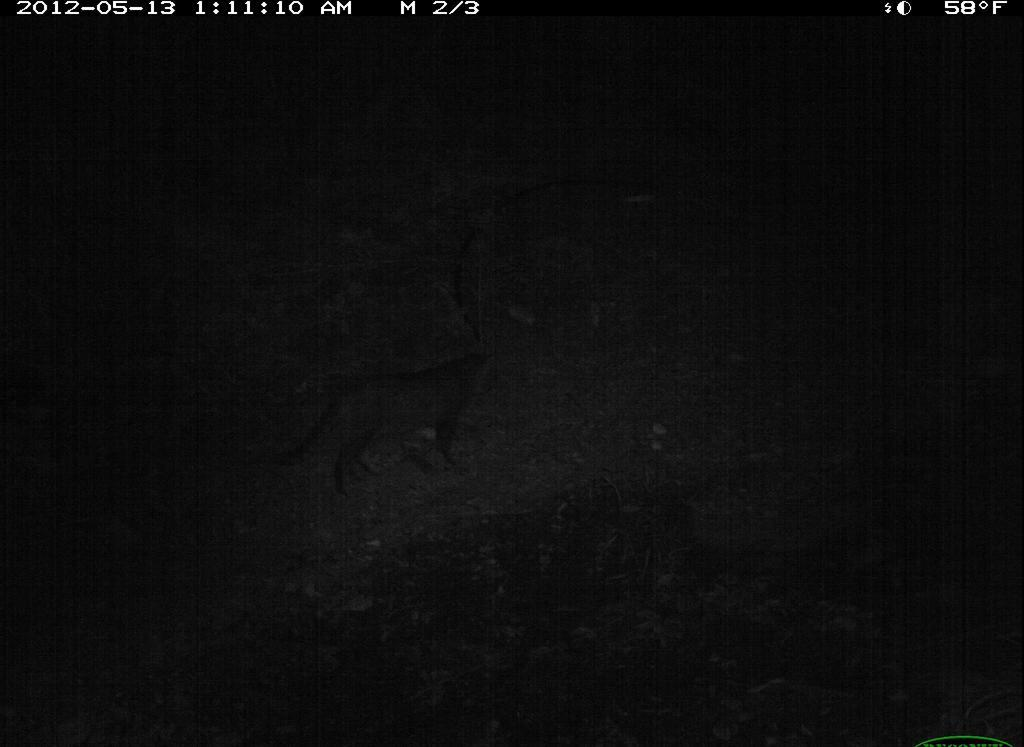cat: (268, 340, 521, 515)
